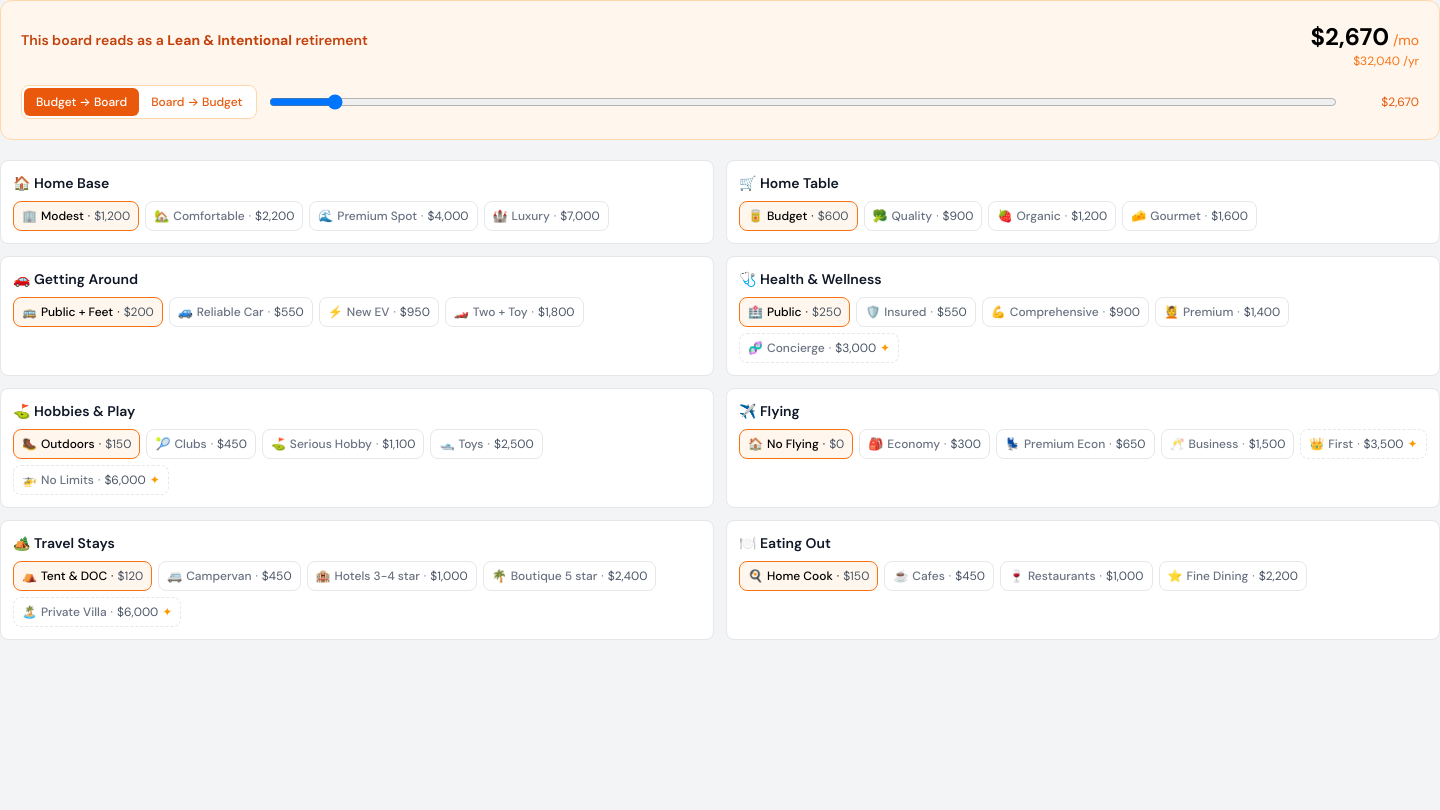
Scenario: LifestyleMoodBoard › shows no per-card description until a tier is actively picked
Expected: the text "family home kept, garden, spare room" is not shown
Click the button "🏡 Comfortable · $2,200": (224,216) [145, 201, 303, 231]
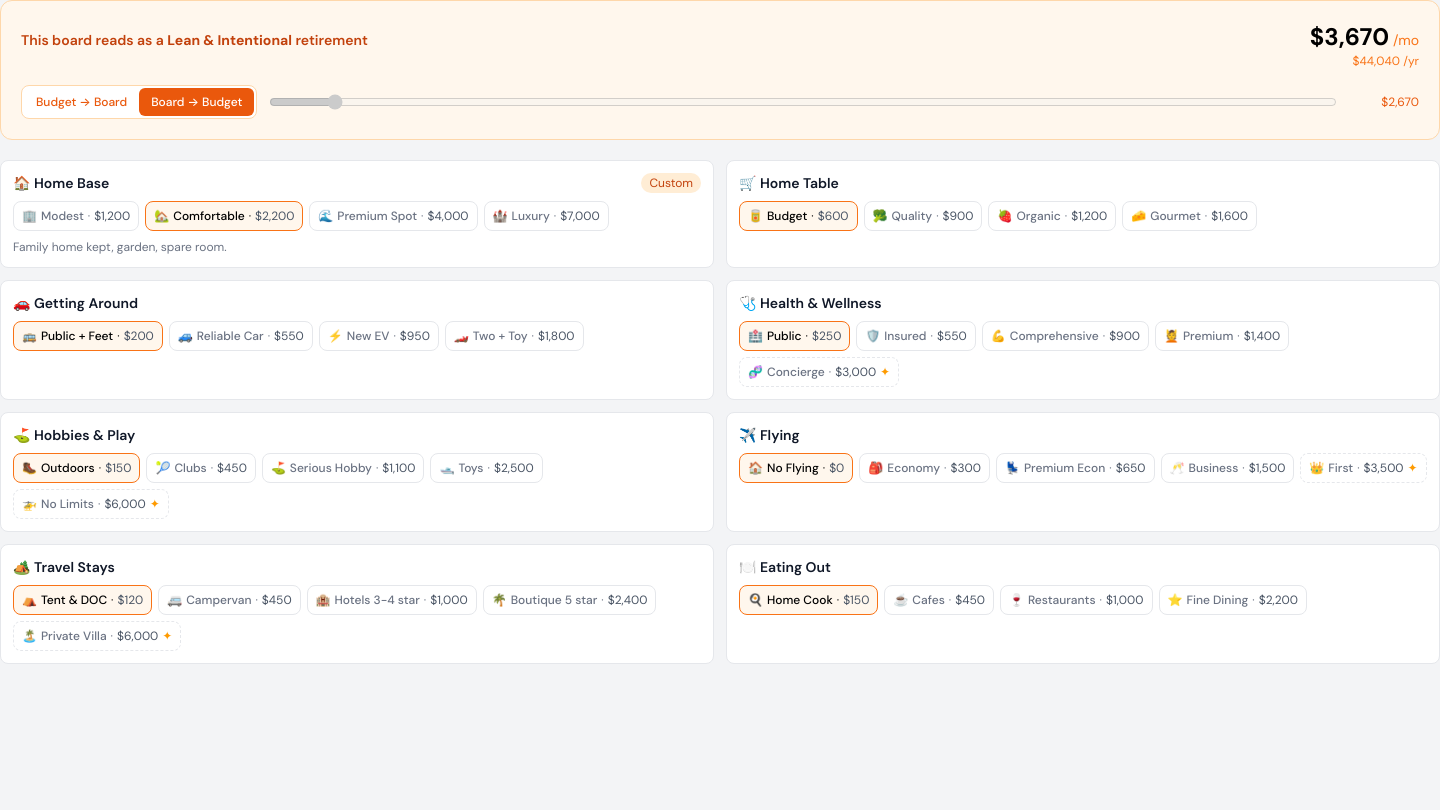
Now the text "Family home kept, garden, spare room." is shown, box [13, 239, 227, 255]
